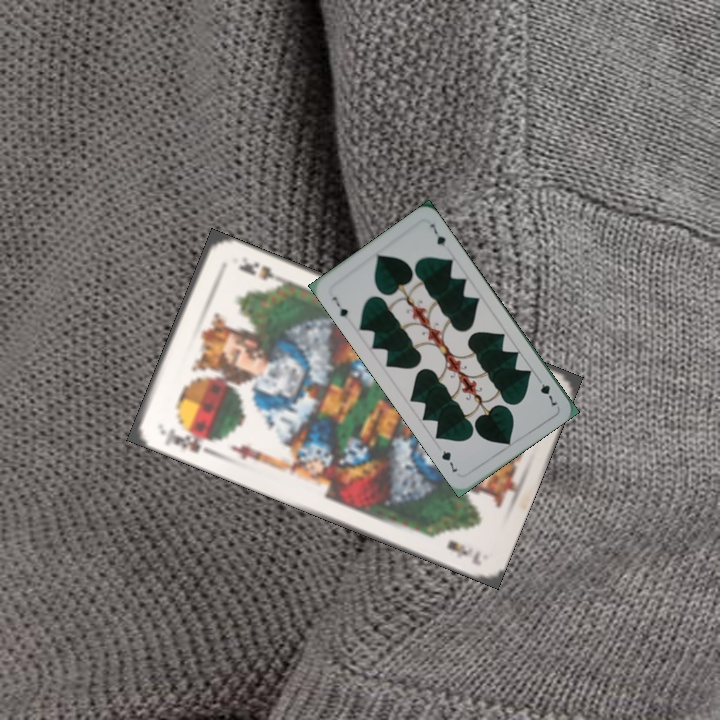G7: (533, 373, 560, 410), (328, 292, 351, 320)
SK: (156, 421, 216, 456)
